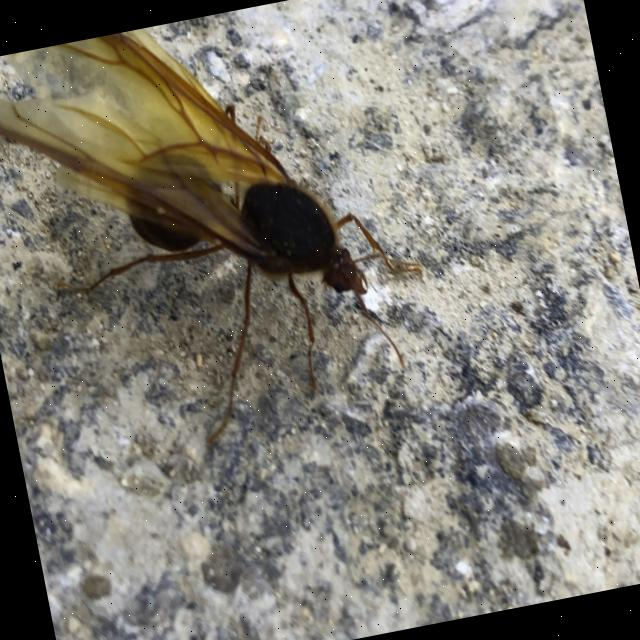Alive-Male-Alate: (0, 0, 449, 481)
